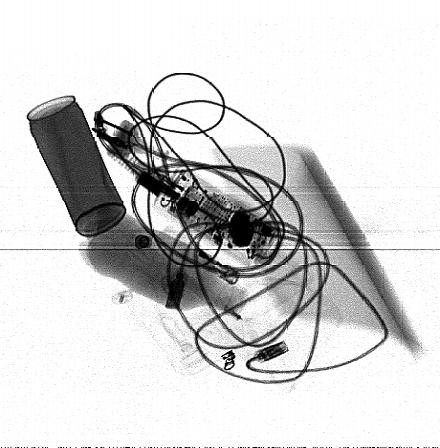Lighter: (168, 231, 246, 286)
